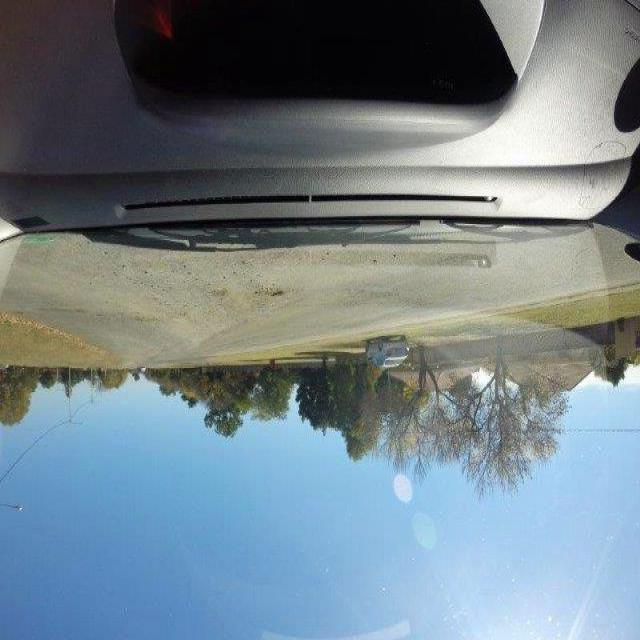lubang: (256, 282, 290, 306)
